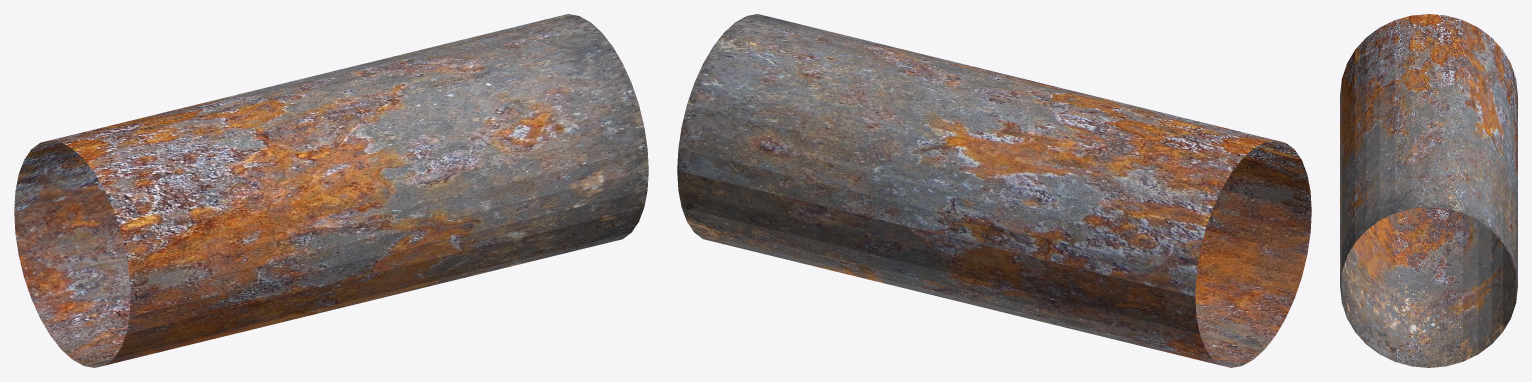
Rendered from cilinder.obj.
3 renders of one model, left to right at view 1: azimuth 30°, elevation 25°; view 2: azimuth 150°, elevation 25°; view 3: azimuth 270°, elevation 25°, orthographic. The views are drawn at different scales.
Parts seen in each view (by area): view 1: Cylinder; view 2: Cylinder; view 3: Cylinder.
Part boxes in pixels (x1,y1,x2,y2): Cylinder: [14, 14, 648, 367]; Cylinder: [677, 14, 1311, 367]; Cylinder: [1340, 14, 1517, 367].
Bounding box in the file's own units: 5.14 × 2 × 2.
Materials: 1 (1 with a texture image).
